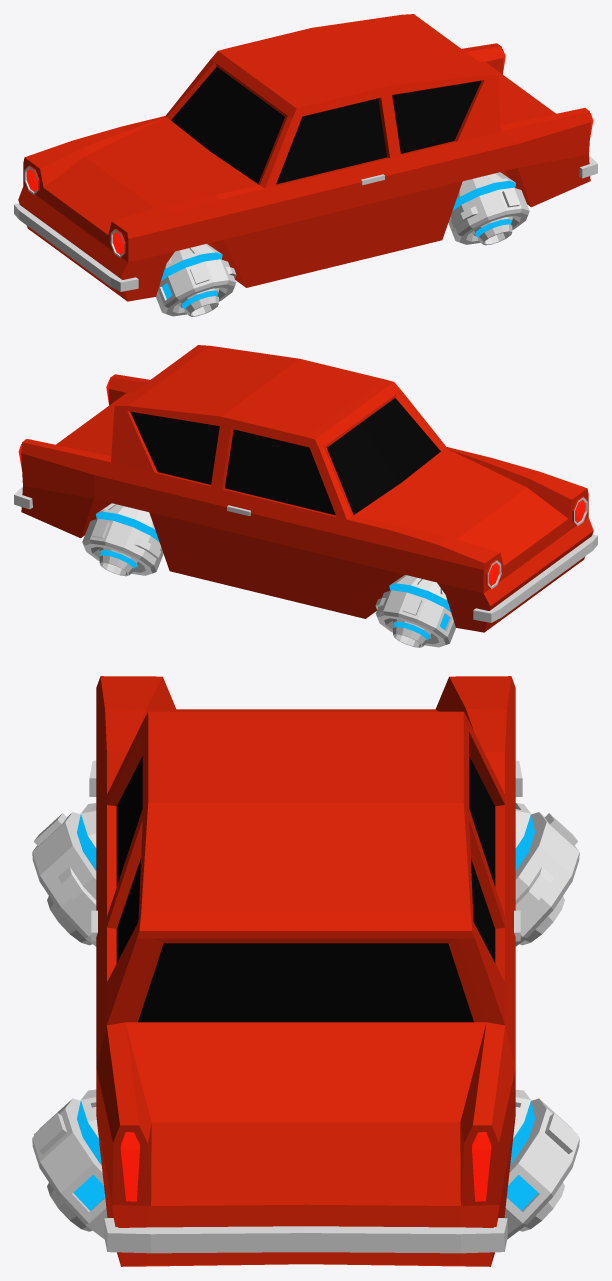
Rendered from Cloud66.glb.
3 renders of one model, top to bottom at view 1: azimuth 30°, elevation 25°; view 2: azimuth 150°, elevation 25°; view 3: azimuth 270°, elevation 25°, orthographic. The views are drawn at different scales.
Parts seen in each view (by area): view 1: Car, Engines, Bumper; view 2: Car, Engines, Bumper; view 3: Car, Engines, Bumper.001.
Part boxes in pixels (x1,y1,x2,y2): Car: (18, 14, 593, 301); Engines: (156, 172, 529, 316); Bumper: (14, 203, 138, 291); Car: (18, 345, 593, 632); Engines: (82, 503, 455, 647); Bumper: (473, 534, 597, 622); Car: (96, 676, 515, 1266); Engines: (32, 803, 579, 1239); Bumper.001: (104, 1218, 507, 1253).
Size of the model in its own units: 2.22 by 0.7725 by 1.08.
